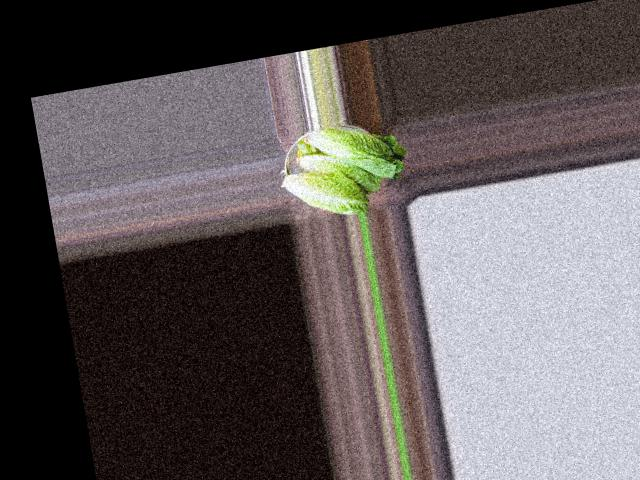lettuce: (295, 115, 406, 194)
